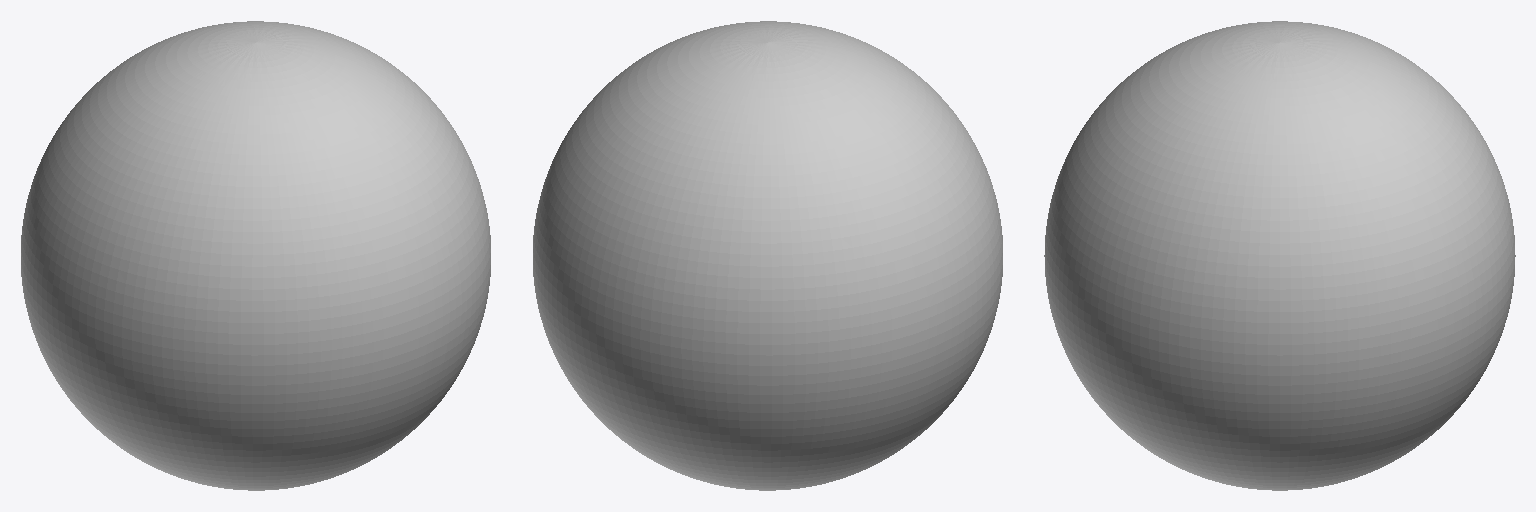
Rendered from polysphere.obj.
3 renders of one model, left to right at view 1: azimuth 30°, elevation 25°; view 2: azimuth 150°, elevation 25°; view 3: azimuth 270°, elevation 25°, orthographic.
Visible parts, largest first — view 1: High_poly_sphere1_High_poly_sphere1.001; view 2: High_poly_sphere1_High_poly_sphere1.001; view 3: High_poly_sphere1_High_poly_sphere1.001.
Part boxes in pixels (bbox=[...]): High_poly_sphere1_High_poly_sphere1.001: bbox=[21, 21, 490, 490]; High_poly_sphere1_High_poly_sphere1.001: bbox=[533, 21, 1002, 490]; High_poly_sphere1_High_poly_sphere1.001: bbox=[1044, 21, 1515, 490].
Size of the model in its own units: 1 by 1 by 1.